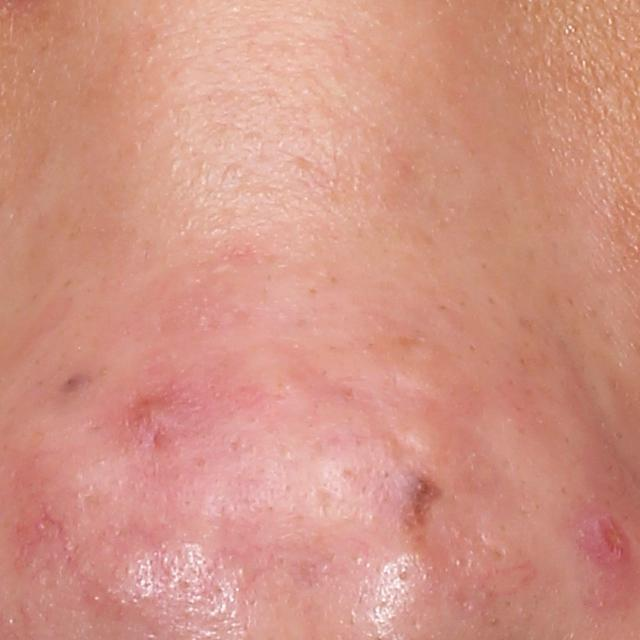nevus: (400, 470, 442, 532)
papule: (571, 506, 630, 569), (130, 395, 182, 445)
